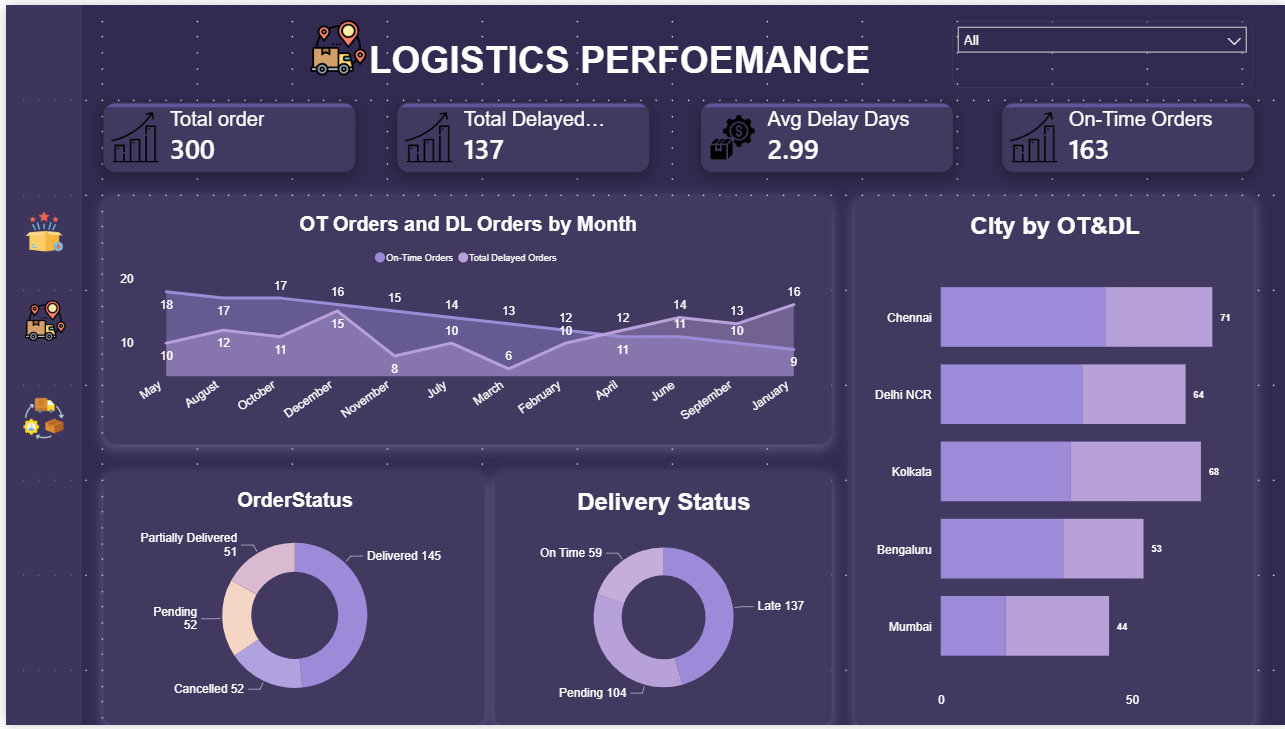

Layout of this report page (visuals, bound fields, positions):
{"tool":"powerbi","page":{"name":"Logistics Performance","canvas":[1280,720],"ordinal":2},"visuals":[{"type":"group","id":"g1","title":"Group 1","box":[0,0,76.2,720],"z":0},{"type":"cardVisual","fields":{"Data":["calculation.Avg Delay Days"]},"box":[694.7,97.2,252,69.8],"z":0,"group":"g2"},{"type":"textbox","box":[0,0,75.7,720],"z":1,"group":"g1"},{"type":"image","box":[0,191.2,76.2,70],"z":501,"group":"g1"},{"type":"textbox","box":[315.7,34.3,597.1,62.9],"z":1000,"group":"g3"},{"type":"cardVisual","fields":{"Data":["calculation.Total Delayed Orders"]},"box":[390.7,97.2,252,69.8],"z":1000,"group":"g2"},{"type":"image","box":[1.2,280.5,76.1,71.1],"z":1000},{"type":"cardVisual","fields":{"Data":["calculation.On-Time Orders"]},"box":[996,97.2,252,69.8],"z":2000,"group":"g2"},{"type":"areaChart","title":"OT Orders and DL Orders by Month","fields":{"Category":["dim_date.FullDate.Variation.Date Hierarchy.Month"],"Y":["calculation.On-Time Orders","calculation.Total Delayed Orders"]},"box":[97.2,190.8,728.1,248.1],"z":2000},{"type":"image","box":[261.4,0,142.9,85.7],"z":3000,"group":"g3"},{"type":"cardVisual","fields":{"Data":["calculation.Total order"]},"box":[97.2,97.2,252,69.8],"z":3000,"group":"g2"},{"type":"donutChart","title":" OrderStatus","fields":{"Category":["fact_orders.OrderStatus"],"Y":["calculation.Total order"]},"box":[97.2,467.5,381.5,253.1],"z":3000},{"type":"barChart","title":"CIty by OT&DL","fields":{"Y":["calculation.On-Time Orders","calculation.Total Delayed Orders"],"Category":["dim_warehouse.City"]},"box":[849,190.8,399,529.9],"z":4000},{"type":"donutChart","title":" Delivery Status","fields":{"Category":["fact_orders.DeliveryStatus"],"Y":["calculation.Total order"]},"box":[488.7,467.5,336.6,253.1],"z":5000},{"type":"group","id":"g2","title":"Group 2","box":[97.2,97.2,1150.8,69.8],"z":6000},{"type":"slicer","fields":{"Values":["dim_product.Category"]},"box":[946.3,16.2,300.5,66.1],"z":7000},{"type":"group","id":"g3","title":"Group 3","box":[261.4,0,651.4,97.1],"z":8000},{"type":"image","box":[0,377.1,75.7,71.4],"z":9000}]}

Visuals, with their boxes in screenshot pixels (x1, y1, x2, y2), scaled from the page's 1280x720 canvas onto the 1285x729 screenshot:
"Group 1" group: <region>0, 0, 76, 728</region>
cardVisual - calculation.Avg Delay Days: <region>697, 98, 950, 169</region>
textbox: <region>0, 0, 76, 728</region>
image: <region>0, 194, 76, 264</region>
textbox: <region>317, 35, 916, 98</region>
cardVisual - calculation.Total Delayed Orders: <region>392, 98, 645, 169</region>
image: <region>1, 284, 78, 356</region>
cardVisual - calculation.On-Time Orders: <region>1000, 98, 1253, 169</region>
"OT Orders and DL Orders by Month" areaChart: <region>98, 193, 829, 444</region>
image: <region>262, 0, 406, 87</region>
cardVisual - calculation.Total order: <region>98, 98, 351, 169</region>
" OrderStatus" donutChart: <region>98, 473, 481, 728</region>
"CIty by OT&DL" barChart: <region>852, 193, 1253, 728</region>
" Delivery Status" donutChart: <region>491, 473, 829, 728</region>
"Group 2" group: <region>98, 98, 1253, 169</region>
slicer - dim_product.Category: <region>950, 16, 1252, 83</region>
"Group 3" group: <region>262, 0, 916, 98</region>
image: <region>0, 382, 76, 454</region>
